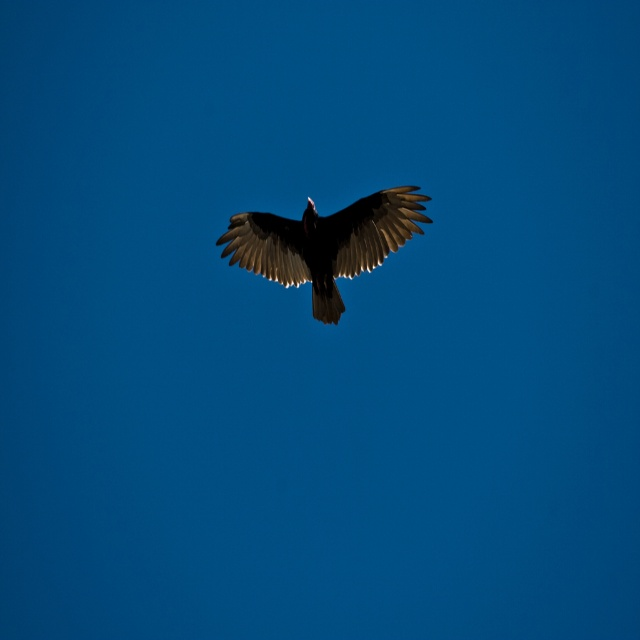Eagle: (214, 190, 434, 342)
